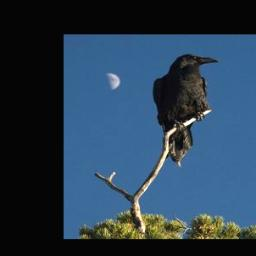Crow: (152, 54, 220, 169)
